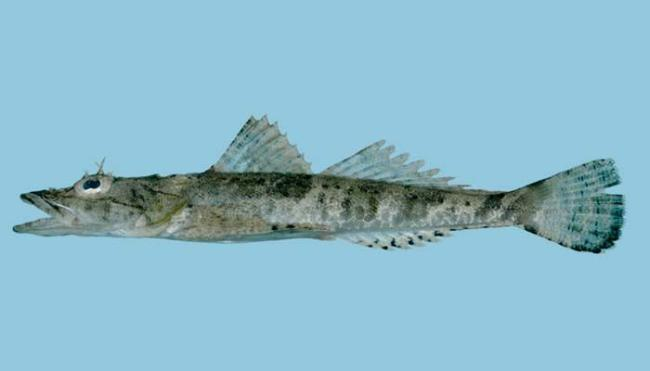fish: (13, 113, 627, 256)
